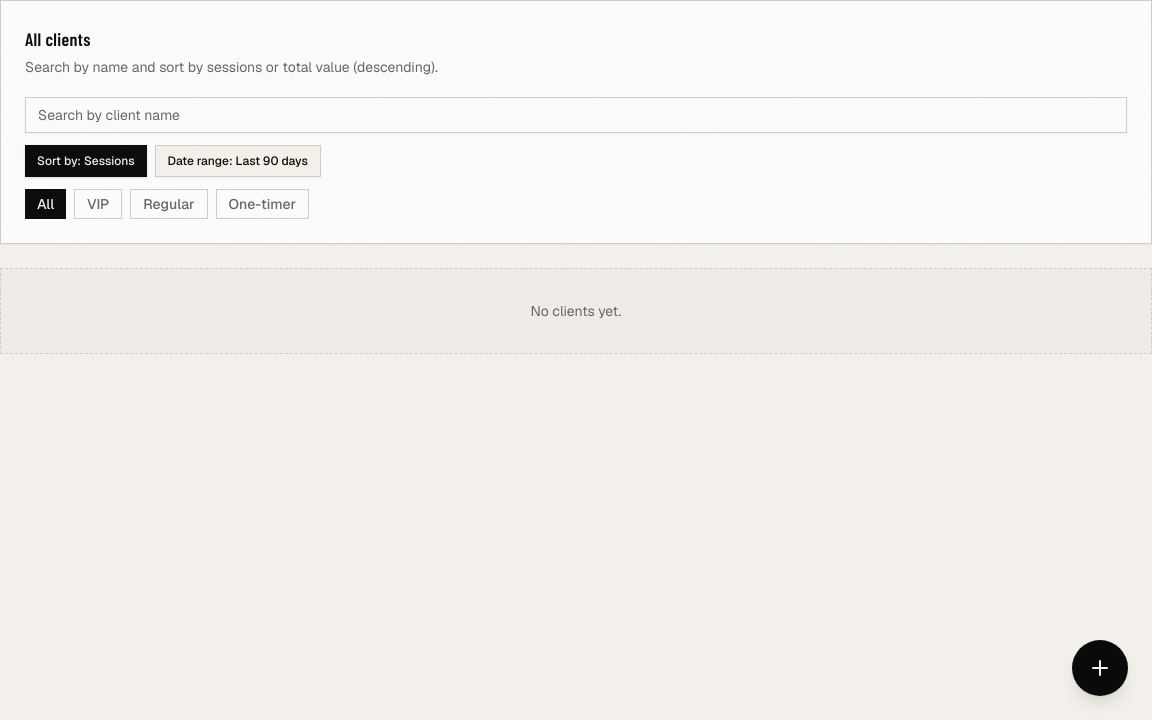
Scenario: ClientsView tier filter integration › shows tier-aware empty state for VIP
Click the button "VIP". click: point(98, 204)
box: [74,189,122,219]
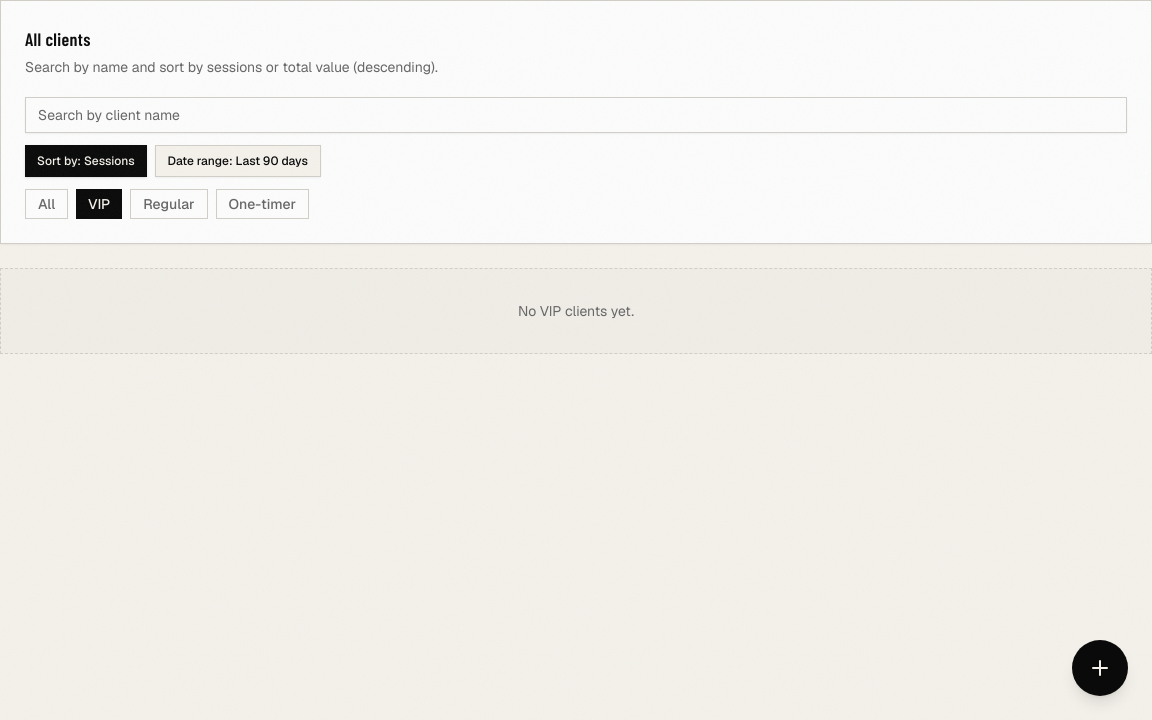
Check: the text "No VIP clients yet." is shown, box [0,268,1151,354]
